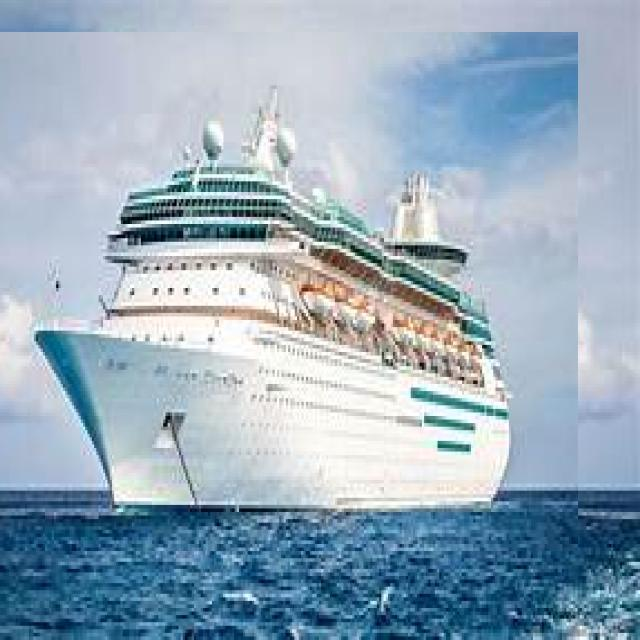PassengerShip: (0, 32, 578, 551)
